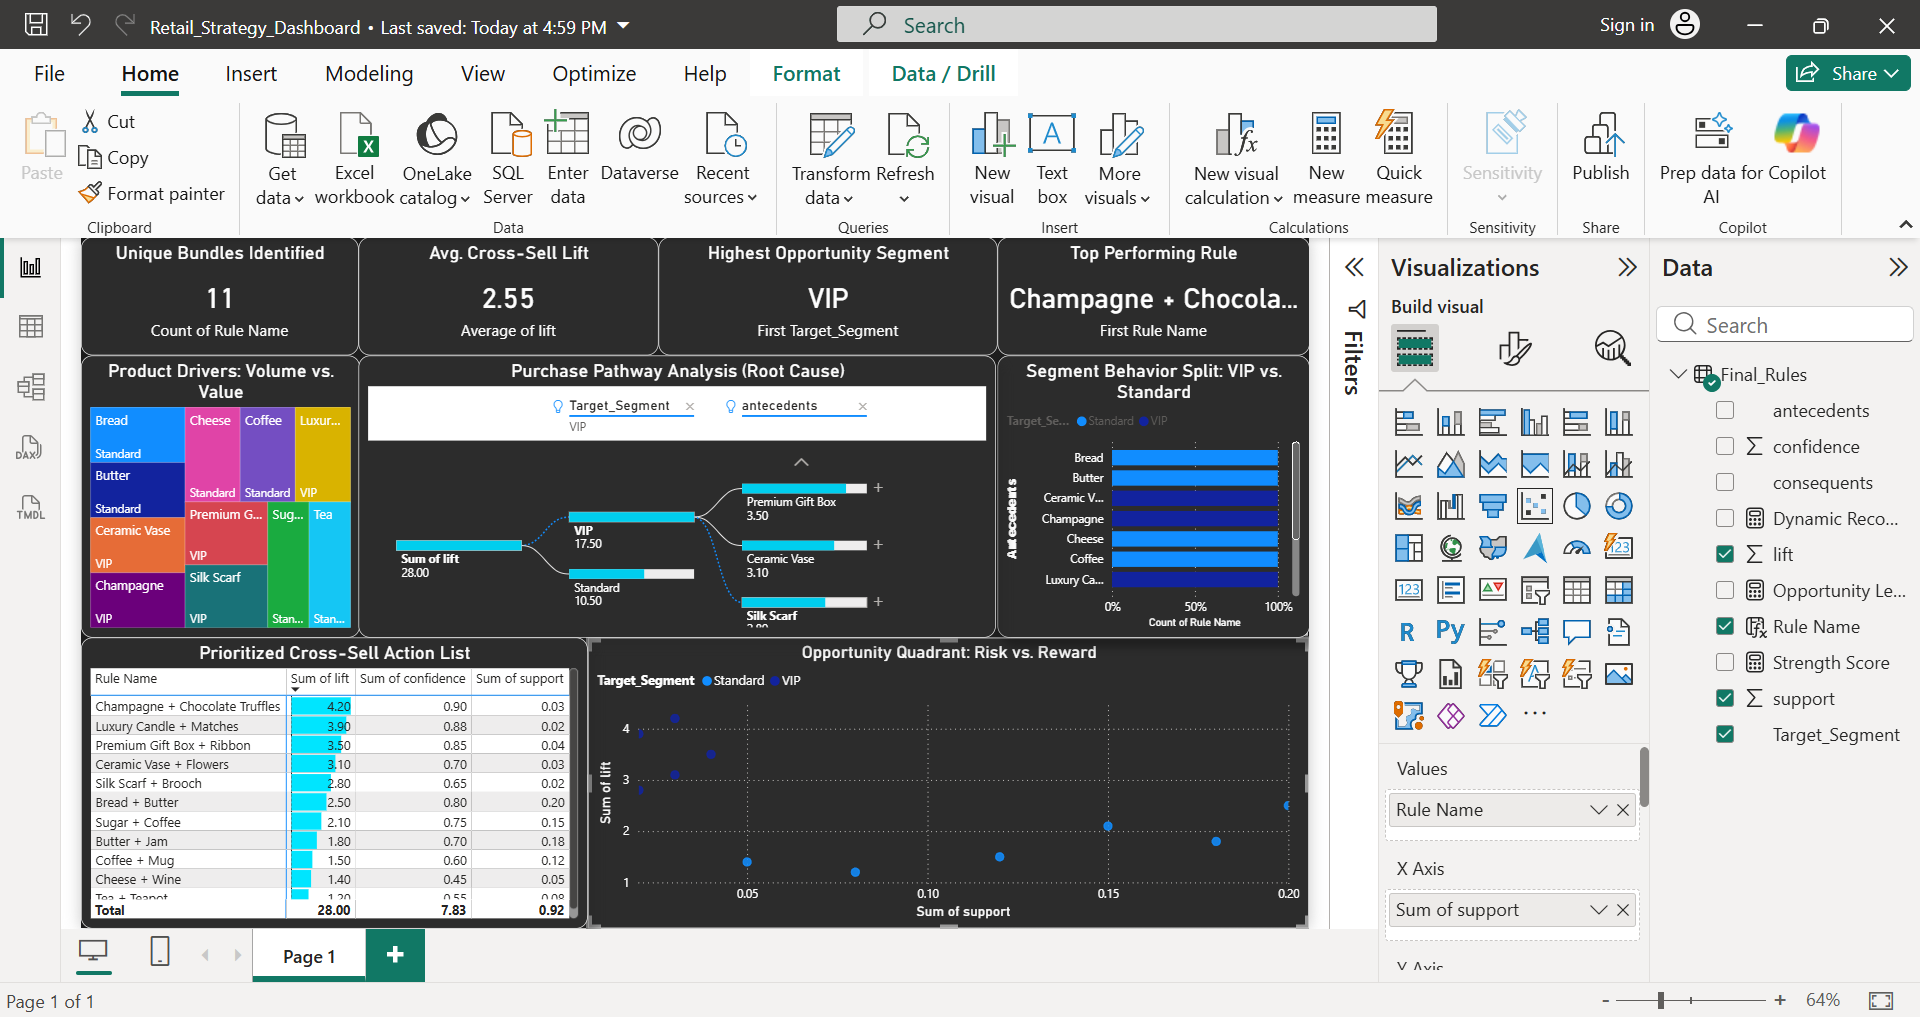

The dashboard page shown, as its layout file describes it:
{"tool":"powerbi","page":{"name":"Page 1","canvas":[1280,720],"ordinal":0},"visuals":[{"type":"card","title":"Unique Bundles Identified","fields":{"Values":["CountNonNull(Final_Rules.Rule Name)"]},"box":[0,0,289.2,123.5],"z":0},{"type":"card","title":"Avg. Cross-Sell Lift","fields":{"Values":["Avg(Final_Rules.lift)"]},"box":[289.2,0,312.6,123.5],"z":1000},{"type":"card","title":"Highest Opportunity Segment","fields":{"Values":["Min(Final_Rules.Target_Segment)"]},"box":[601.8,0,353.2,123.5],"z":2000},{"type":"card","title":"Top Performing Rule ","fields":{"Values":["Min(Final_Rules.Rule Name)"]},"box":[955,0,325.1,123.5],"z":3000},{"type":"treemap","title":"Product Drivers: Volume vs. Value","fields":{"Group":["Final_Rules.antecedents"],"Values":["CountNonNull(Final_Rules.Rule Name)"],"Details":["Final_Rules.Target_Segment"]},"box":[0,123.5,290.7,293.8],"z":4000},{"type":"scatterChart","title":"Opportunity Quadrant: Risk vs. Reward","fields":{"X":["Sum(Final_Rules.support)"],"Y":["Sum(Final_Rules.lift)"],"Series":["Final_Rules.Target_Segment"],"Category":["Final_Rules.Rule Name"]},"box":[528.3,417.3,751.8,303.2],"z":5000},{"type":"hundredPercentStackedBarChart","title":"Segment Behavior Split: VIP vs. Standard","fields":{"Category":["Final_Rules.antecedents"],"Y":["CountNonNull(Final_Rules.Rule Name)"],"Series":["Final_Rules.Target_Segment"]},"box":[955,123.5,325.1,293.8],"z":6000},{"type":"decompositionTreeVisual","title":"Purchase Pathway Analysis (Root Cause)","fields":{"Analyze":["Sum(Final_Rules.lift)"],"ExplainBy":["Final_Rules.Target_Segment","Final_Rules.antecedents","Final_Rules.consequents"]},"box":[289.2,123.5,664.3,293.8],"z":7000},{"type":"pivotTable","title":"Prioritized Cross-Sell Action List","fields":{"Rows":["Final_Rules.Rule Name"],"Values":["Sum(Final_Rules.lift)","Sum(Final_Rules.confidence)","Sum(Final_Rules.support)"]},"box":[0,417.3,528.3,303.2],"z":8000}]}

Visuals, with their boxes on the page's 1280x720 design canvas (x1, y1, x2, y2). These are canvas units, not pixel positions in the 1920x1017 screenshot, which may show the page scaled, cropped or inside an application window:
"Unique Bundles Identified" card: rect(0, 0, 289, 124)
"Avg. Cross-Sell Lift" card: rect(289, 0, 602, 124)
"Highest Opportunity Segment" card: rect(602, 0, 955, 124)
"Top Performing Rule " card: rect(955, 0, 1280, 124)
"Product Drivers: Volume vs. Value" treemap: rect(0, 124, 291, 417)
"Opportunity Quadrant: Risk vs. Reward" scatterChart: rect(528, 417, 1280, 720)
"Segment Behavior Split: VIP vs. Standard" hundredPercentStackedBarChart: rect(955, 124, 1280, 417)
"Purchase Pathway Analysis (Root Cause)" decompositionTreeVisual: rect(289, 124, 954, 417)
"Prioritized Cross-Sell Action List" pivotTable: rect(0, 417, 528, 720)
